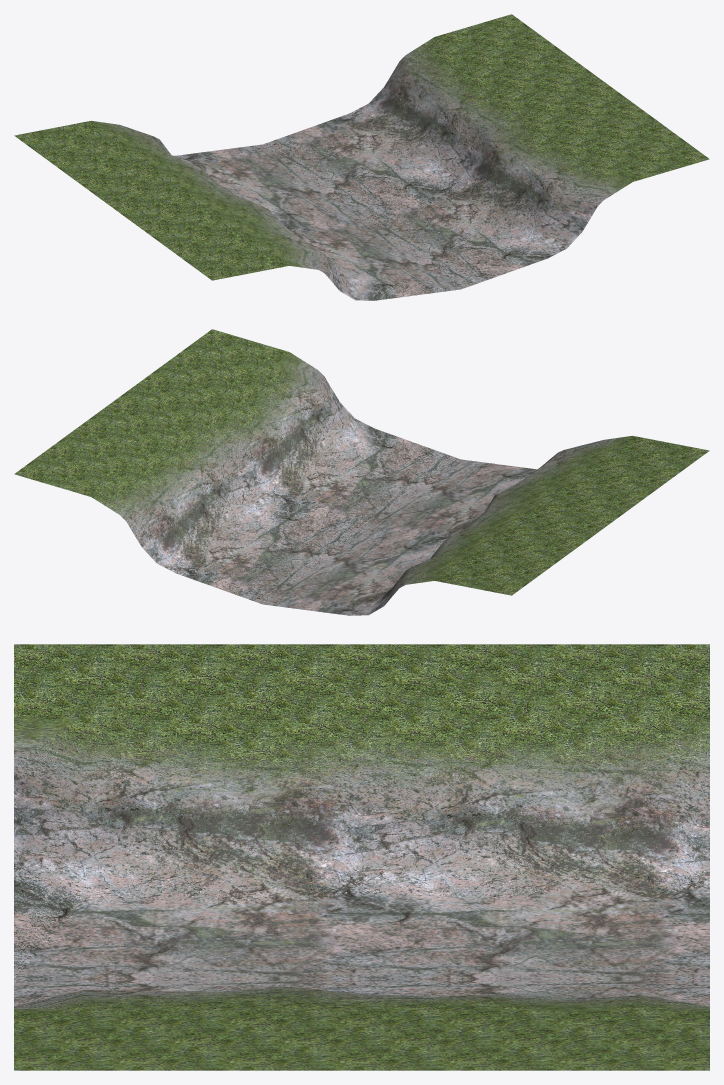
The model's file is RioB.obj.
The picture shows the model from 3 angles, top to bottom: view 1: azimuth 30°, elevation 25°; view 2: azimuth 150°, elevation 25°; view 3: azimuth 270°, elevation 25°; orthographic projection. The views are drawn at different scales.
Parts seen in each view (by area): view 1: Plane; view 2: Plane; view 3: Plane.
Boxes of the visible parts, <box> form: Plane: <box>14,14,709,300</box>; Plane: <box>14,329,709,615</box>; Plane: <box>14,644,709,1070</box>.
Bounding box in the file's own units: 14.5 × 1.94 × 10.
